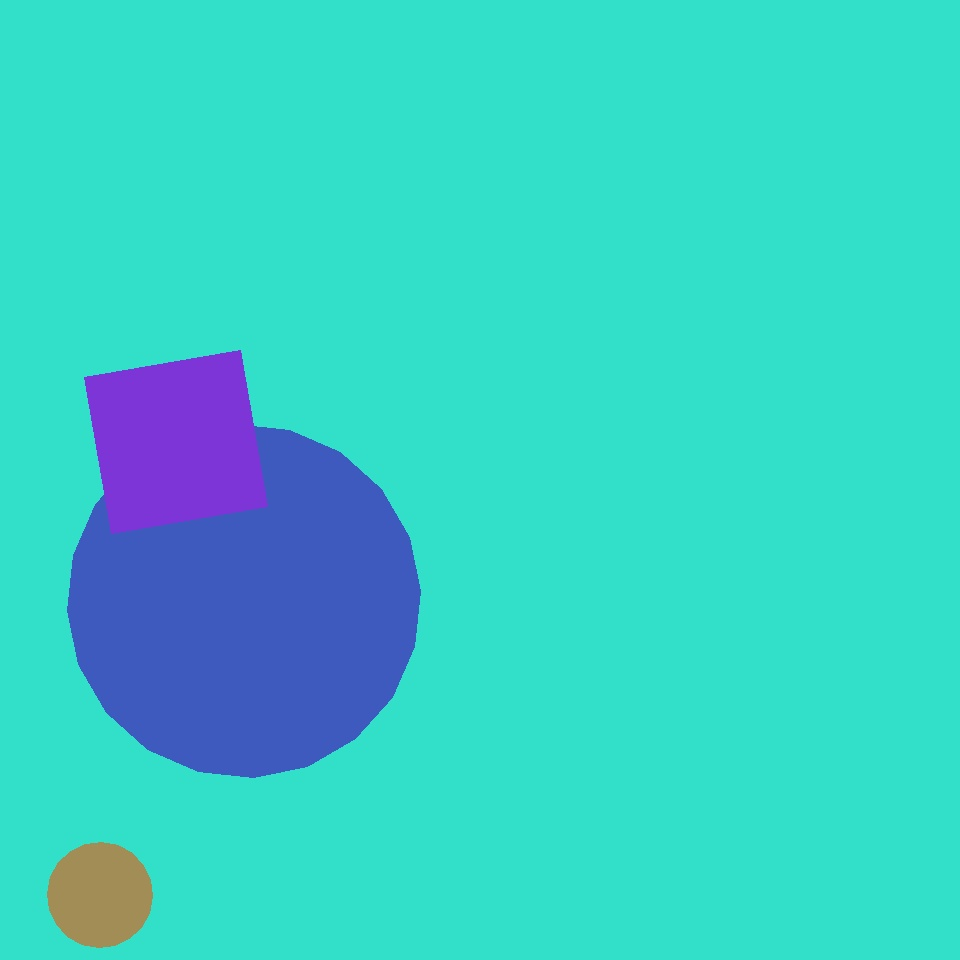square: (84, 350, 268, 534), (180, 446, 290, 554)
triangle: (67, 425, 420, 778), (48, 842, 153, 948)
